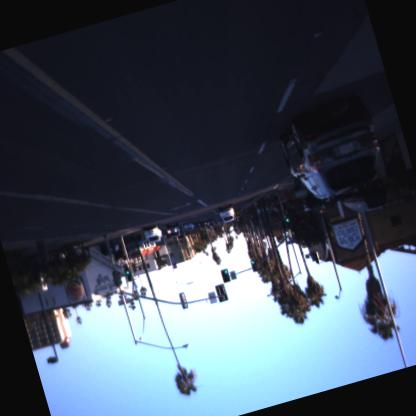trafficlight: (220, 268, 232, 284), (252, 260, 258, 272)
